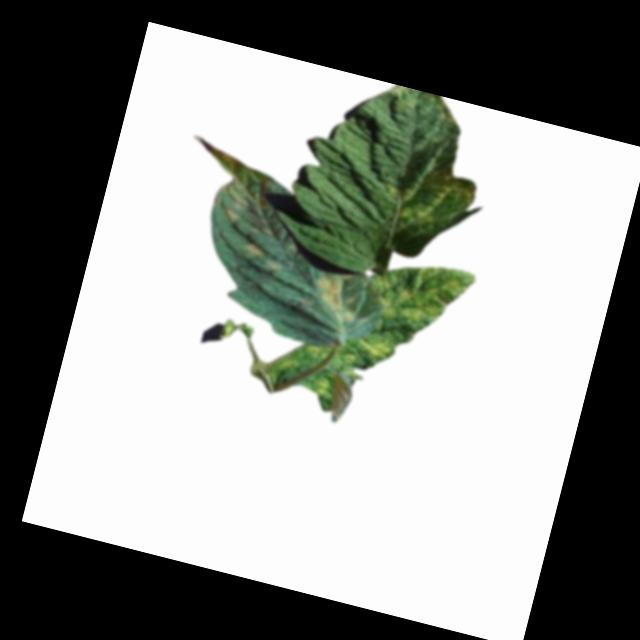Leaf_Mold: (186, 150, 316, 277), (390, 146, 486, 245), (372, 250, 478, 339), (304, 265, 366, 325), (358, 334, 394, 362)
